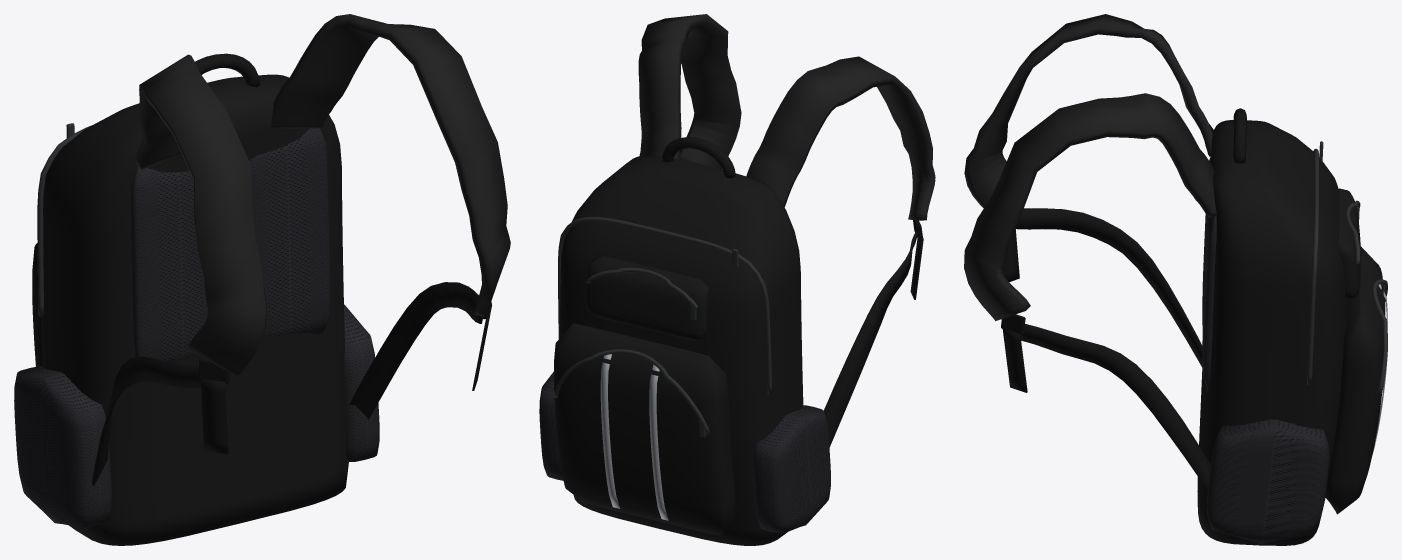
Rendered from HH-BP02-PACK.glb.
The picture shows the model from 3 angles, left to right: view 1: azimuth 30°, elevation 25°; view 2: azimuth 150°, elevation 25°; view 3: azimuth 270°, elevation 25°; orthographic projection. The views are drawn at different scales.
Visible parts, largest first — view 1: HH-BP02-PACK.001, HH-BP02-PACK_Straps.001; view 2: HH-BP02-PACK.001, HH-BP02-PACK_Straps.001; view 3: HH-BP02-PACK.001, HH-BP02-PACK_Straps.001.
Part boxes in pixels (left/top/right/bottom): HH-BP02-PACK.001: left=14, top=53, right=379, bottom=545; HH-BP02-PACK_Straps.001: left=92, top=14, right=510, bottom=485; HH-BP02-PACK.001: left=539, top=137, right=830, bottom=545; HH-BP02-PACK_Straps.001: left=638, top=14, right=935, bottom=447; HH-BP02-PACK.001: left=1197, top=108, right=1387, bottom=545; HH-BP02-PACK_Straps.001: left=964, top=14, right=1217, bottom=491.
Size of the model in its own units: 0.3637 by 0.5698 by 0.502.
3 materials, 3 textured.
